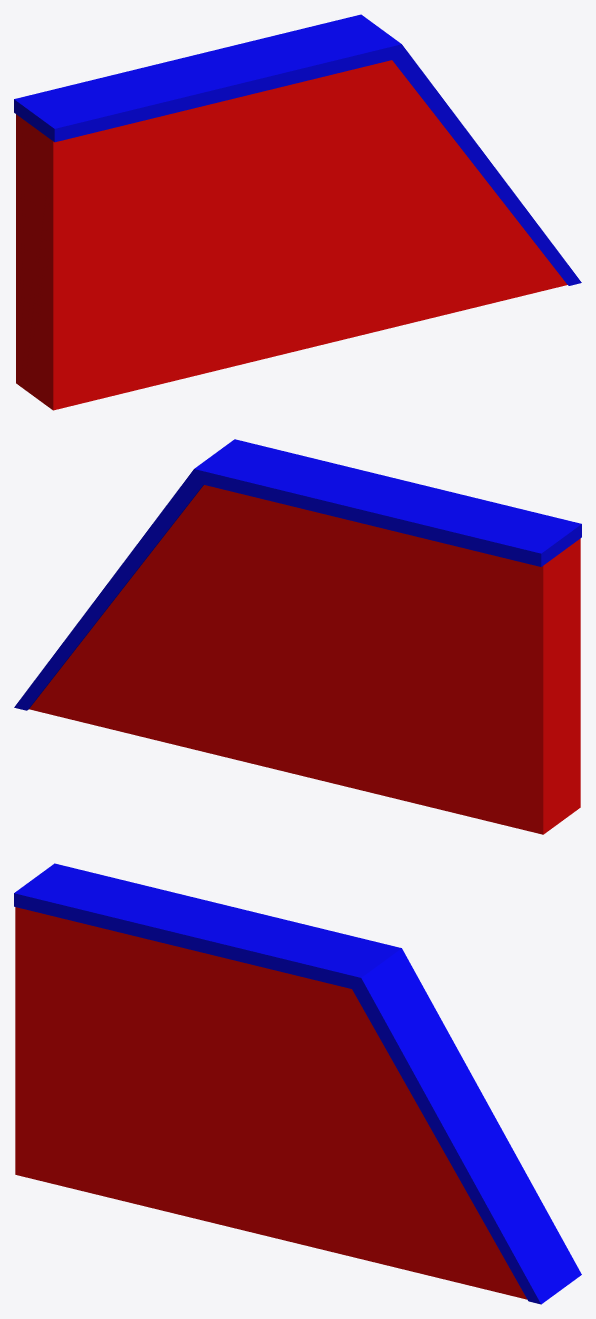
File: SM_ModularAngle.FBX
3 renders of one model, top to bottom at view 1: azimuth 30°, elevation 25°; view 2: azimuth 150°, elevation 25°; view 3: azimuth 330°, elevation 25°, orthographic.
Parts seen in each view (by area): view 1: SM_ModularAngle; view 2: SM_ModularAngle; view 3: SM_ModularAngle.
Part boxes in pixels (<box>): SM_ModularAngle: <box>14,14,581,410</box>; SM_ModularAngle: <box>14,439,581,834</box>; SM_ModularAngle: <box>14,863,581,1304</box>.
Bounding box in the file's own units: 410 × 210 × 54.78.
